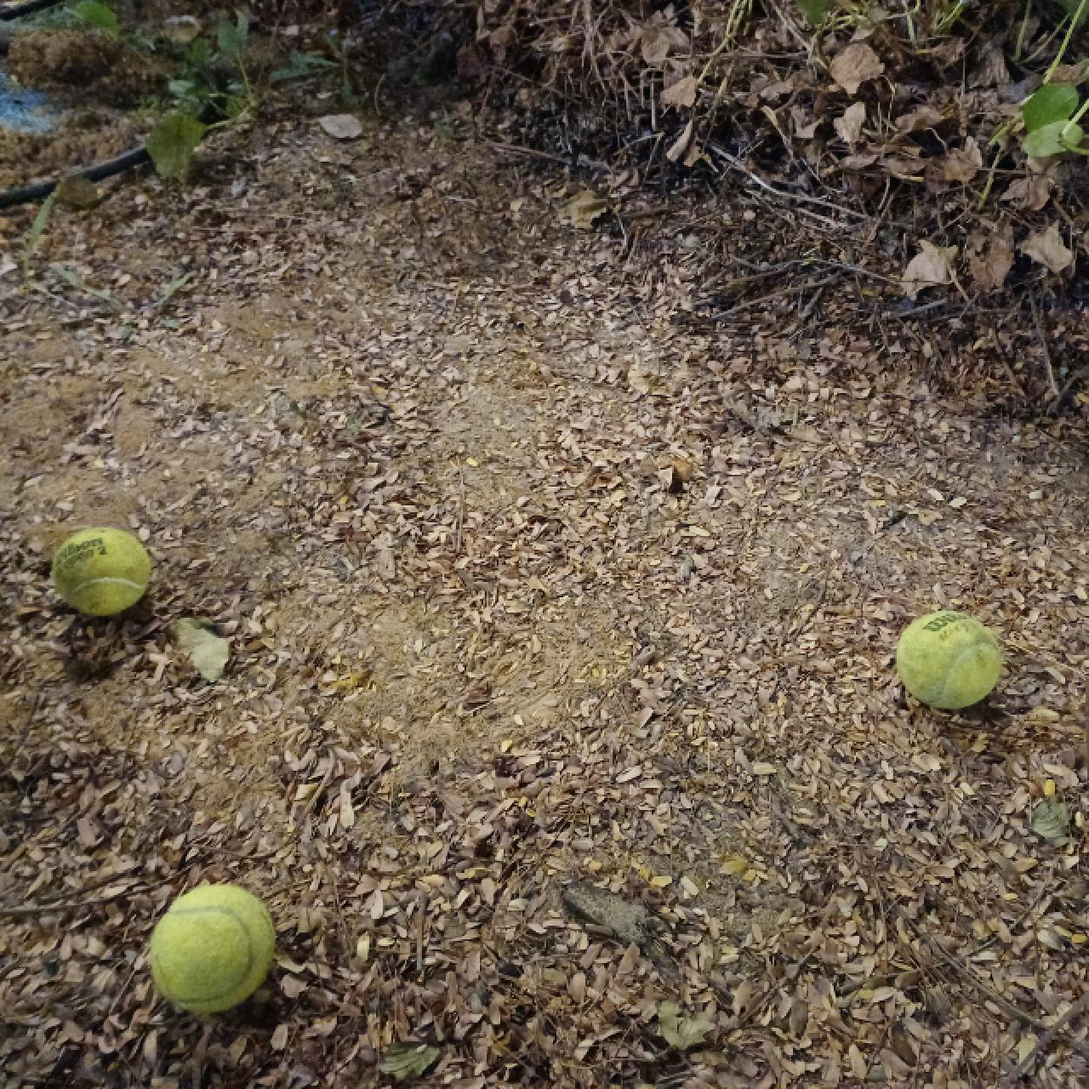tennis-ball: (150, 882, 279, 1016), (897, 610, 1004, 710), (51, 526, 149, 619)
